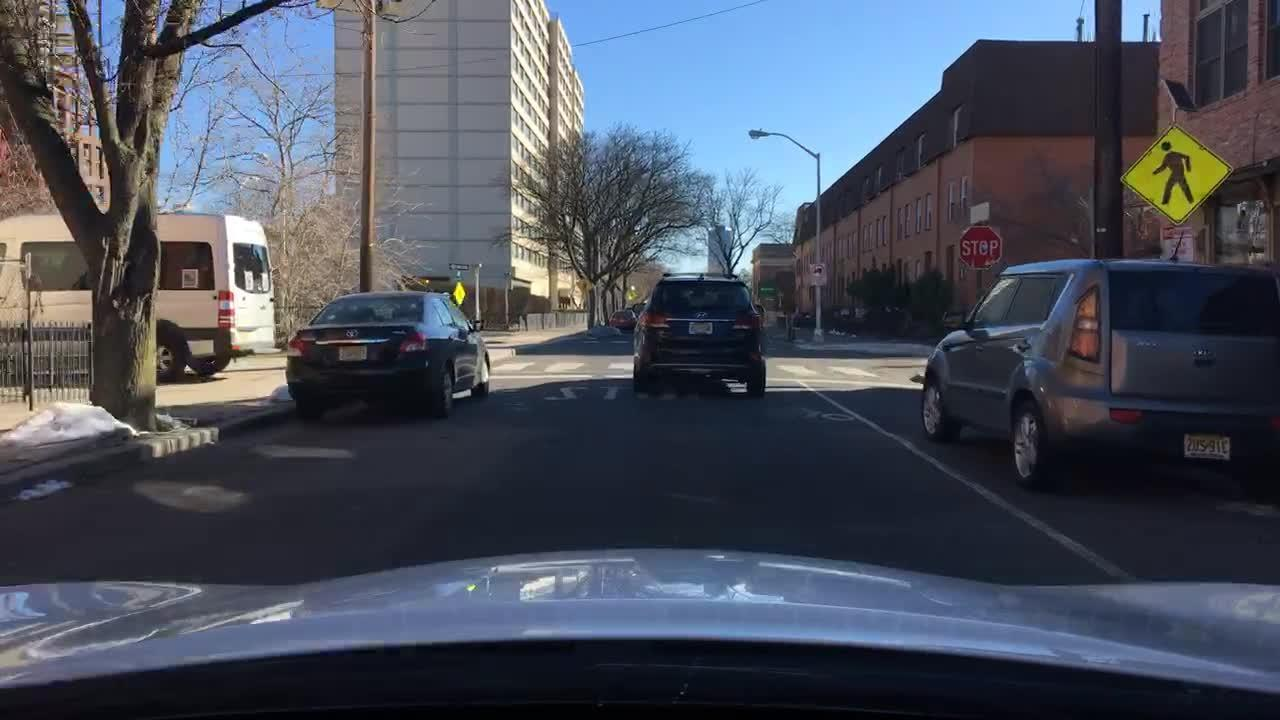Hyundai: (693, 309, 711, 321)
Toyota: (340, 324, 363, 343)
